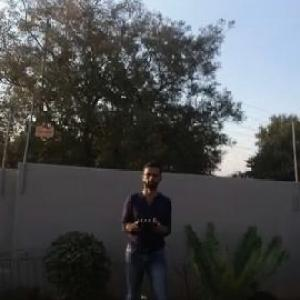follow: (120, 154, 192, 299)
